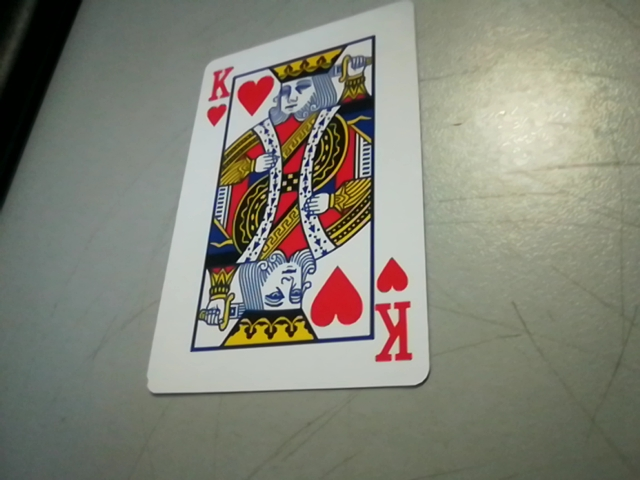hx k: (368, 255, 426, 375), (192, 66, 237, 125)
